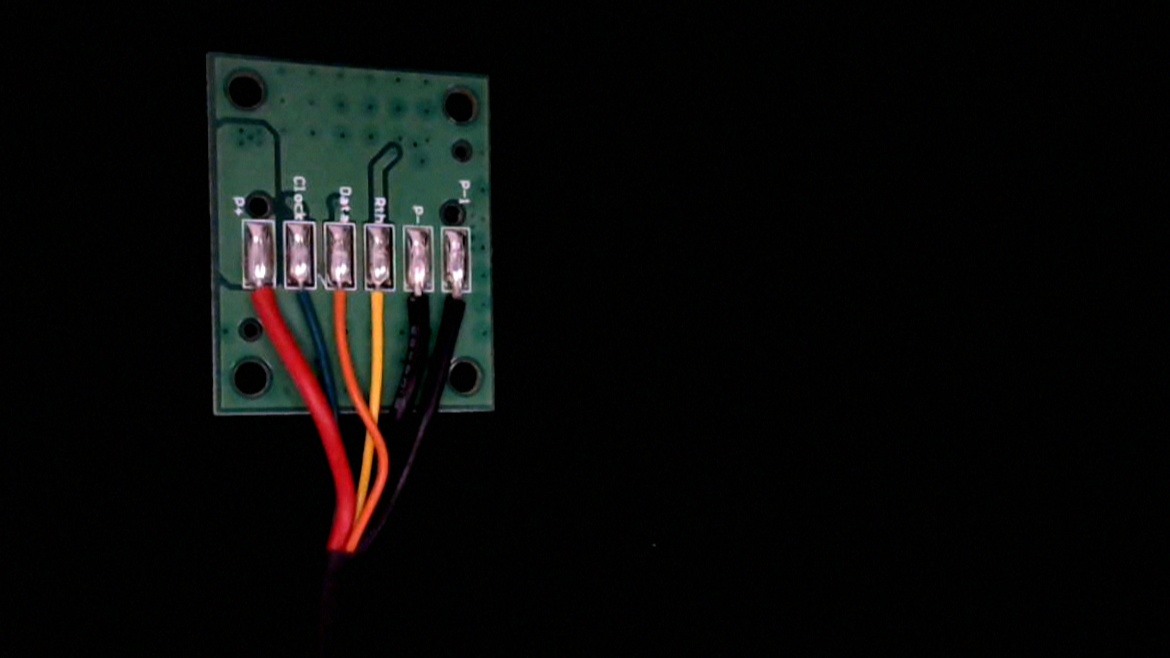Black: (402, 269, 436, 345)
Black1: (441, 272, 474, 342)
Green: (284, 261, 319, 335)
Orange: (323, 267, 356, 342)
Red: (243, 266, 278, 339)
Yellow: (364, 270, 398, 347)
